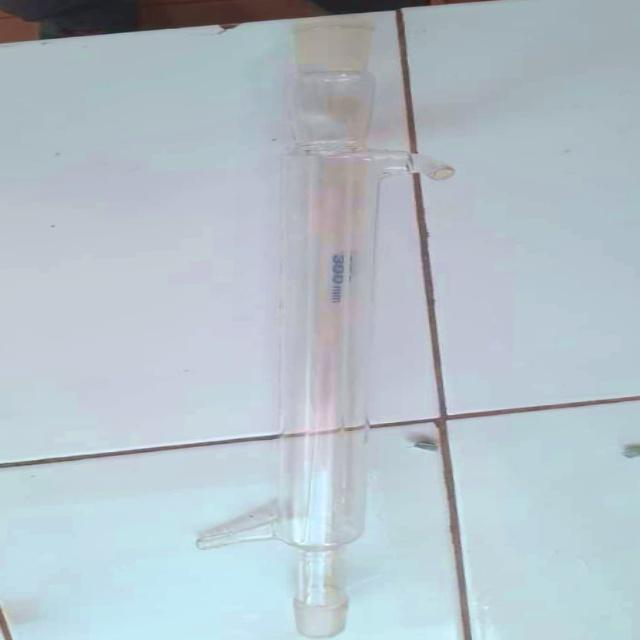Distillation: (167, 5, 482, 640)
